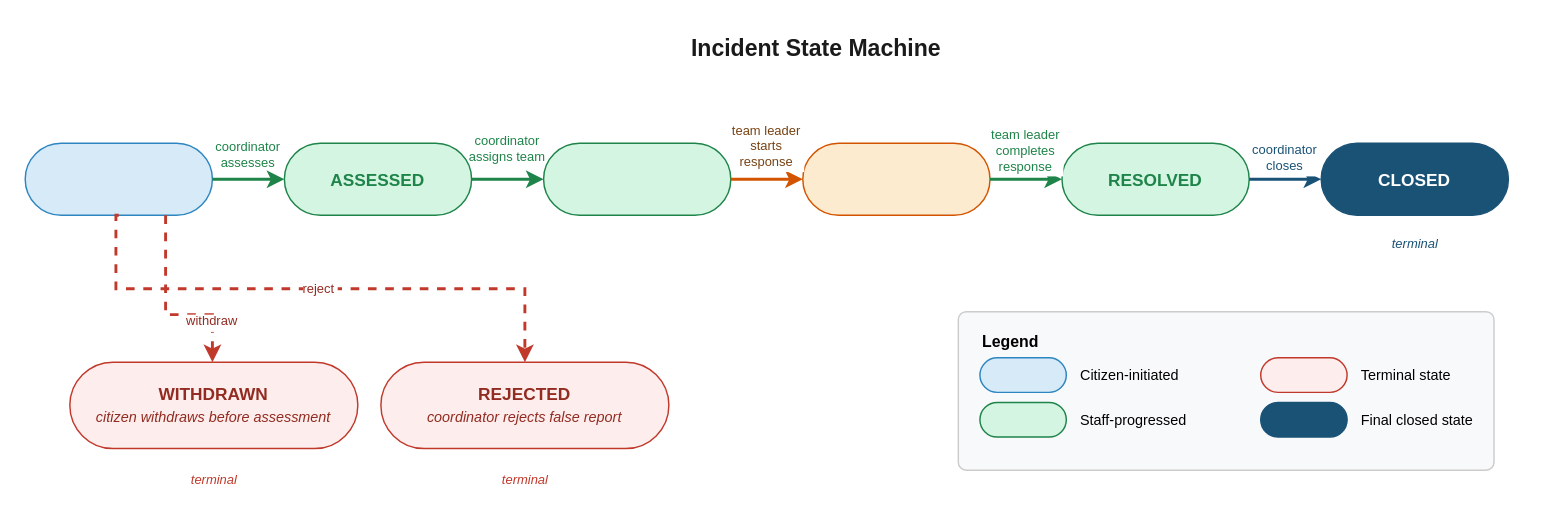
Image size: 1561x513. Some labels were removed from this diagram. Each missing label, with the centre of its shape:
ASSIGNED: (x=636, y=178)
REPORTED: (x=118, y=178)
RESPONDING: (x=895, y=178)
